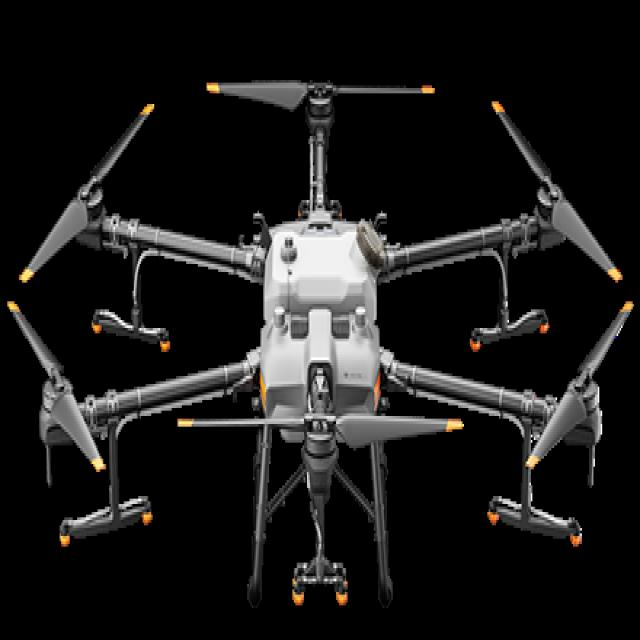drone: (0, 4, 640, 614)
